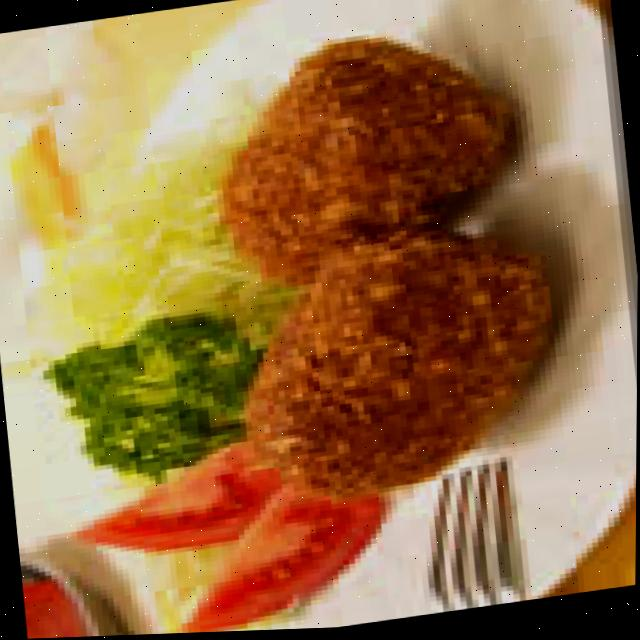炸货点心: (200, 8, 583, 527)
